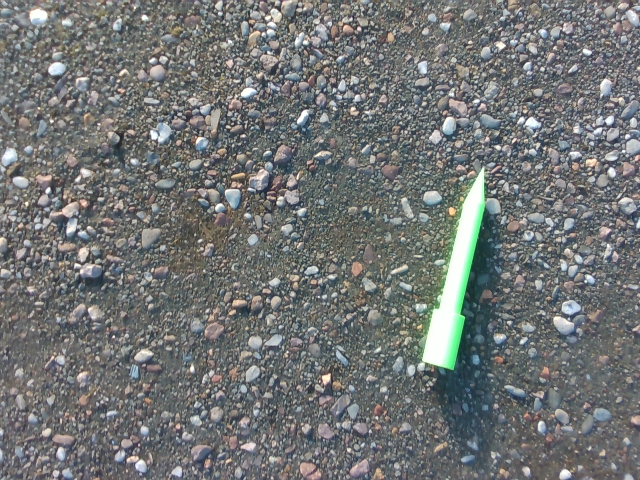Probe: (418, 157, 494, 378)
